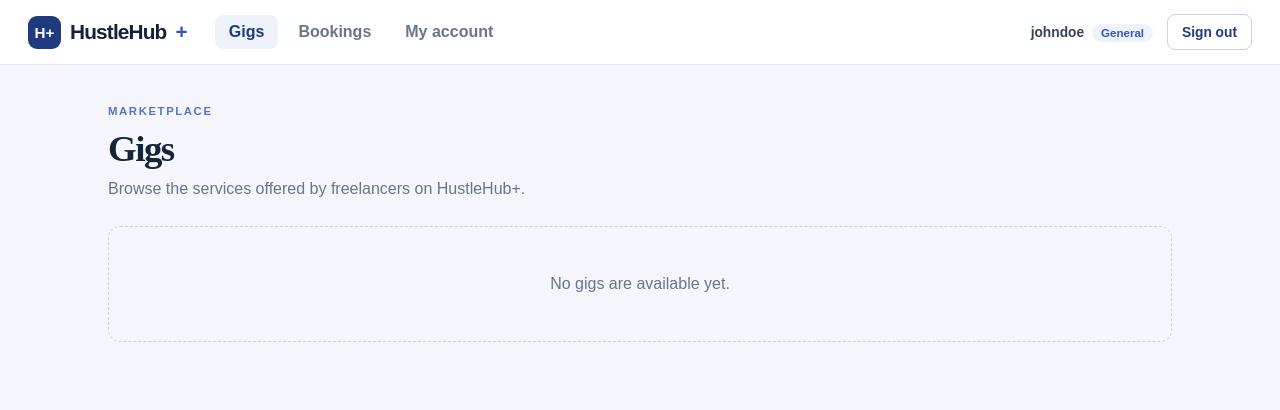
Test: App › moves between the gigs and account pages
Expected: the text "No gigs are available yet." is shown, [108,226,1172,342]
Step 1. Click the button "My account" → (449, 32), box [391,15,507,49]
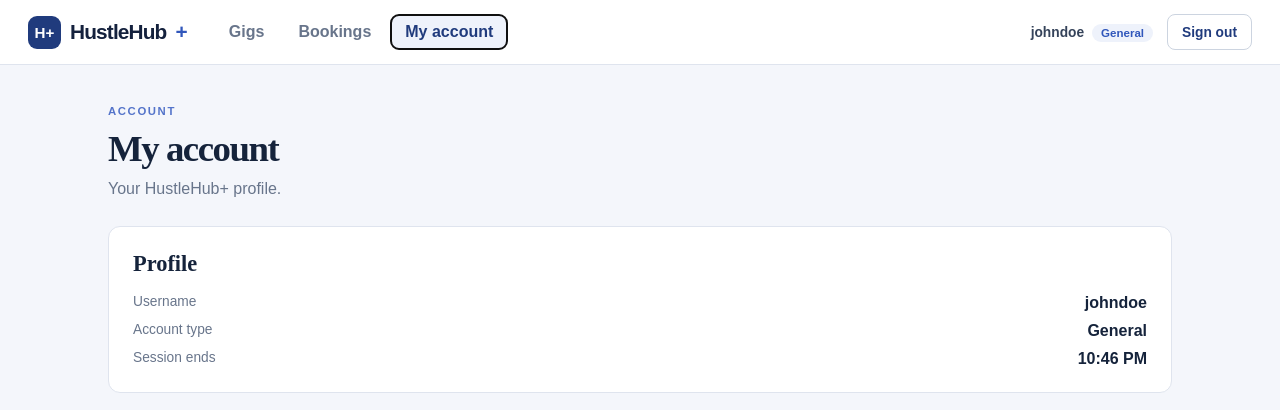
Expected: the heading "My account" is shown, [108,129,281,170]
Expected: the text "johndoe" is shown, [1085,294,1147,312]
Expected: the text "General" in the row of "Account type" is shown, [1087,322,1147,339]
Step 2. Click the button "Gigs" → (247, 32), box [215,15,278,49]
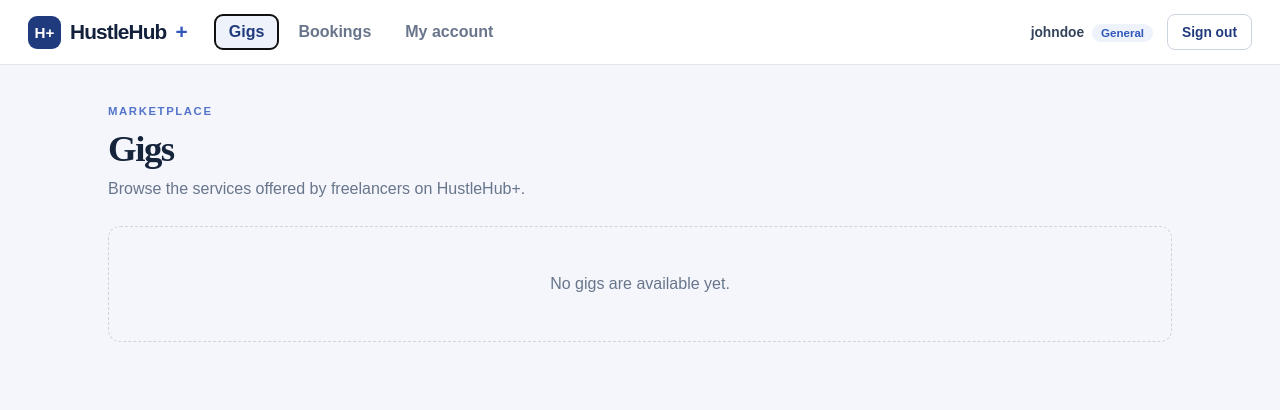
Expected: the heading "Gigs" is shown, [108,128,174,169]
